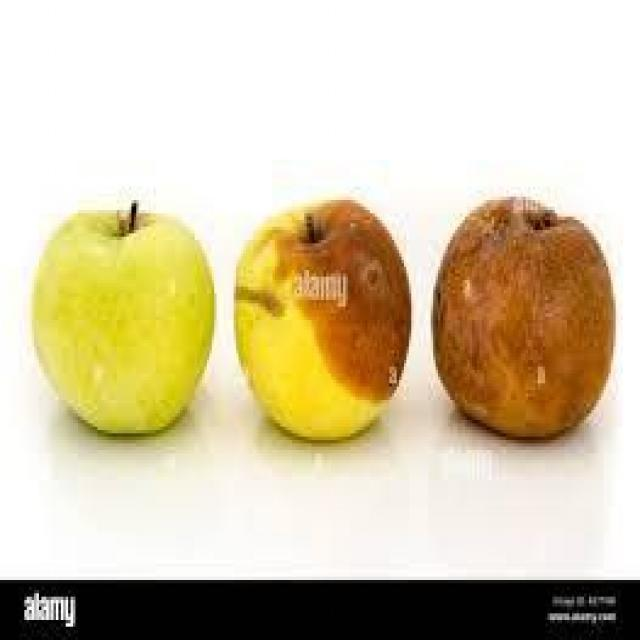Fresh Apple: (33, 215, 217, 432)
Rotten: (434, 197, 624, 445), (238, 206, 405, 436)
